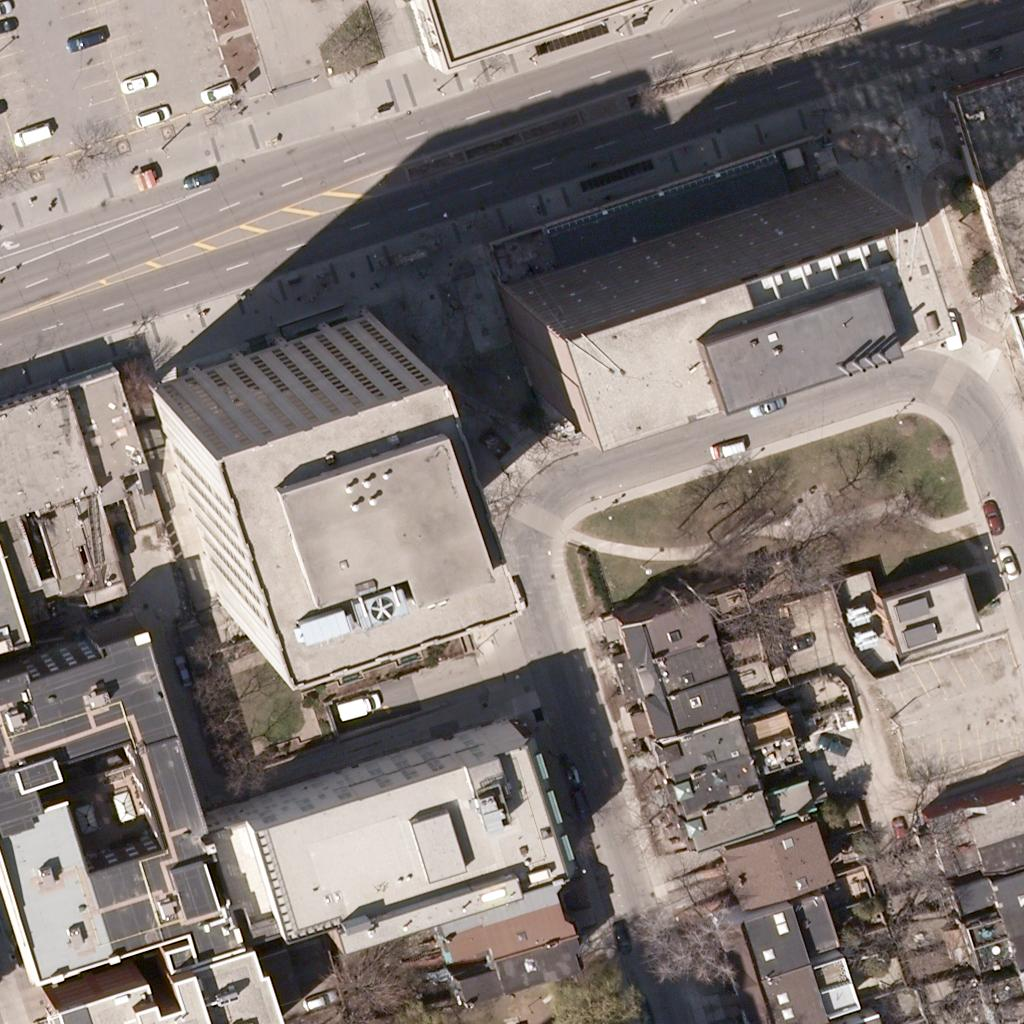car: (66, 22, 100, 56), (122, 64, 156, 98), (202, 74, 236, 108), (135, 97, 169, 131), (11, 118, 45, 152), (185, 159, 219, 193), (934, 309, 968, 343), (752, 388, 786, 422), (714, 431, 748, 465), (974, 500, 1008, 534), (501, 580, 535, 614), (87, 591, 121, 625), (782, 625, 816, 659), (165, 651, 199, 685), (338, 690, 372, 724), (813, 726, 847, 760), (565, 789, 599, 823), (882, 814, 916, 848), (604, 919, 638, 953), (302, 984, 336, 1018), (992, 547, 1024, 581), (628, 997, 662, 1024)
